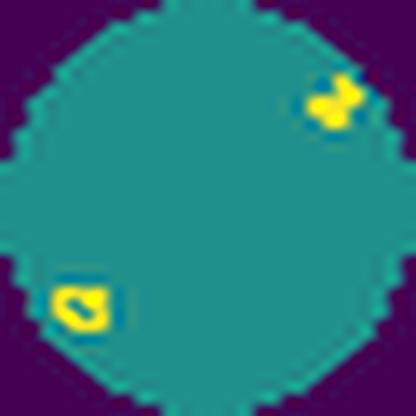Loc: (50, 278, 120, 341), (308, 73, 366, 140)
